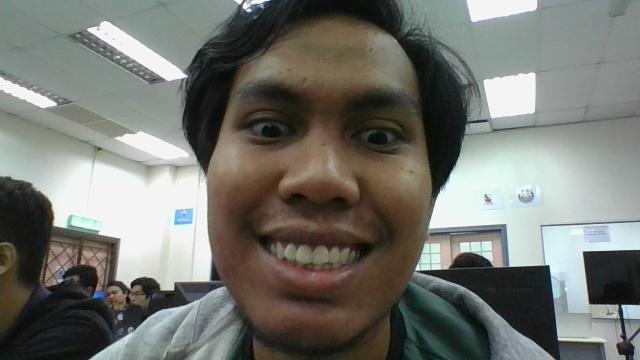senang: (207, 14, 431, 348)
